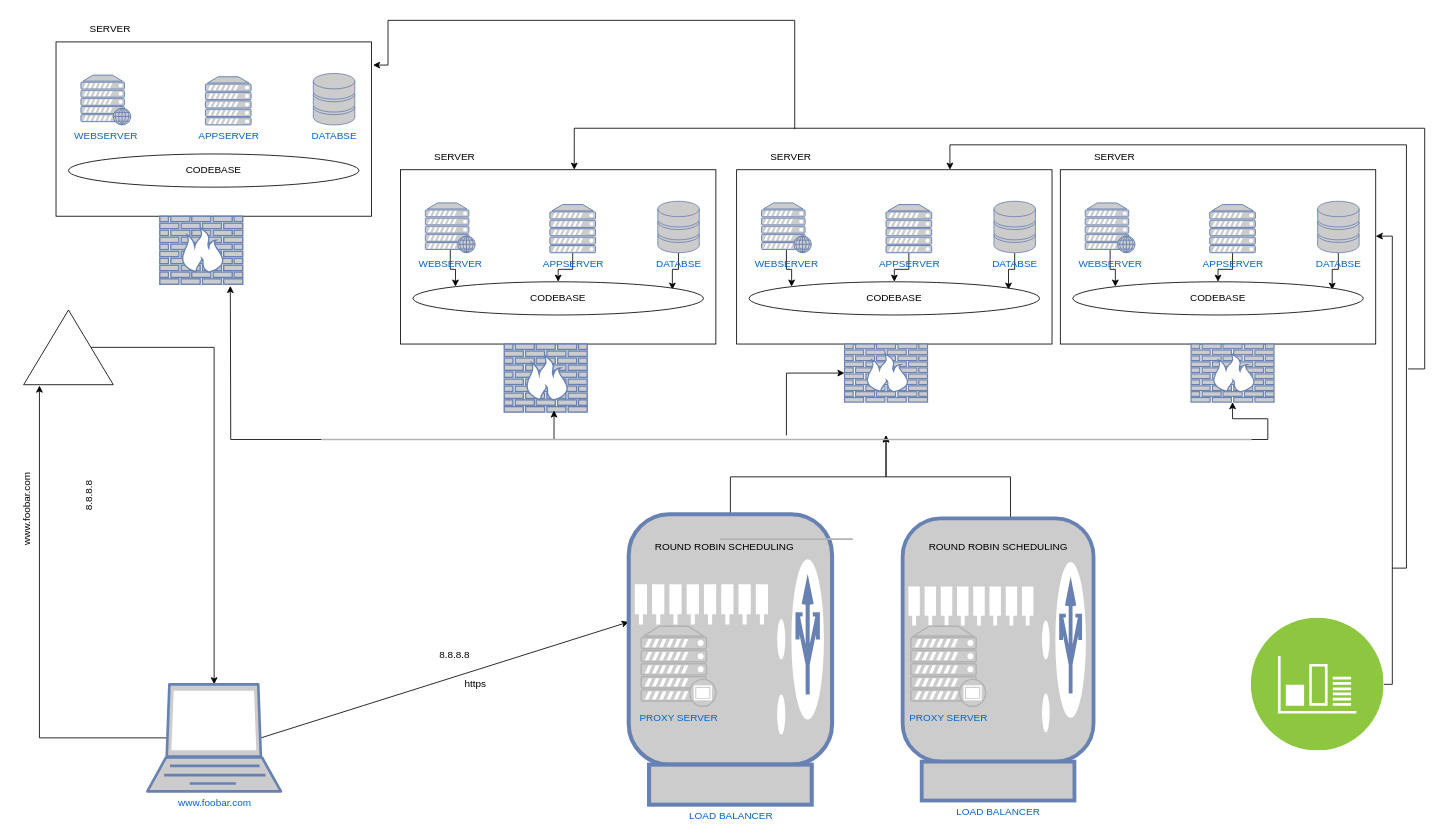
This 1446x837 diagram has some shape labels left out. The shapes that lost their labels are listed below. From the top down, each one's box as (x1, y1, x2, y2) in pixels, then its label:
(23, 309, 113, 385): DNS
(1251, 618, 1384, 750): MONITORING
